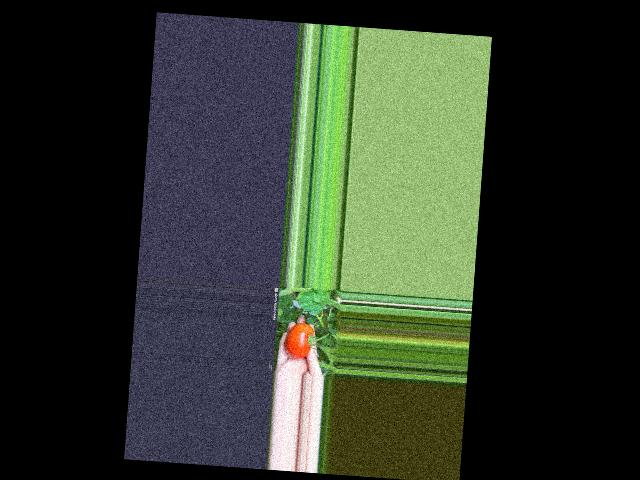tomato: (284, 322, 313, 360)
